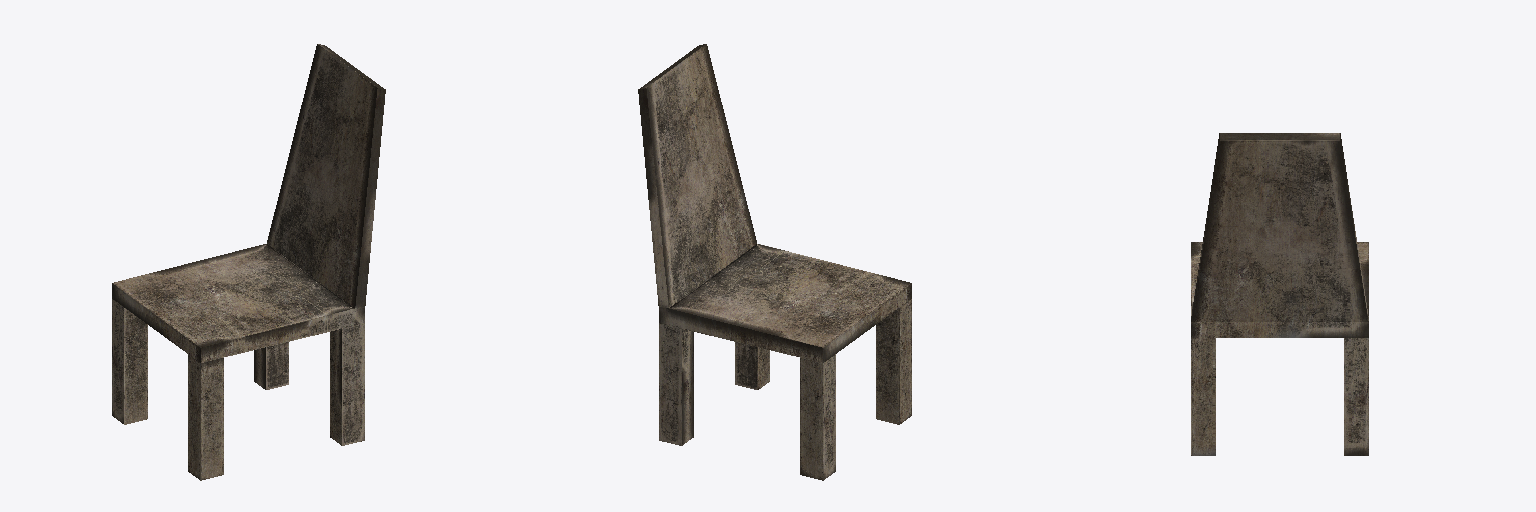
3 renders of one model, left to right at view 1: azimuth 30°, elevation 25°; view 2: azimuth 150°, elevation 25°; view 3: azimuth 270°, elevation 25°, orthographic.
Parts seen in each view (by area): view 1: chair; view 2: chair; view 3: chair.
Part boxes in pixels (x1,y1,x2,y2): chair: (112,44,385,480); chair: (638,44,911,480); chair: (1191,133,1368,455).
Bounding box in the file's own units: 74.05 × 119 × 57.01.
1 materials, 1 textured.